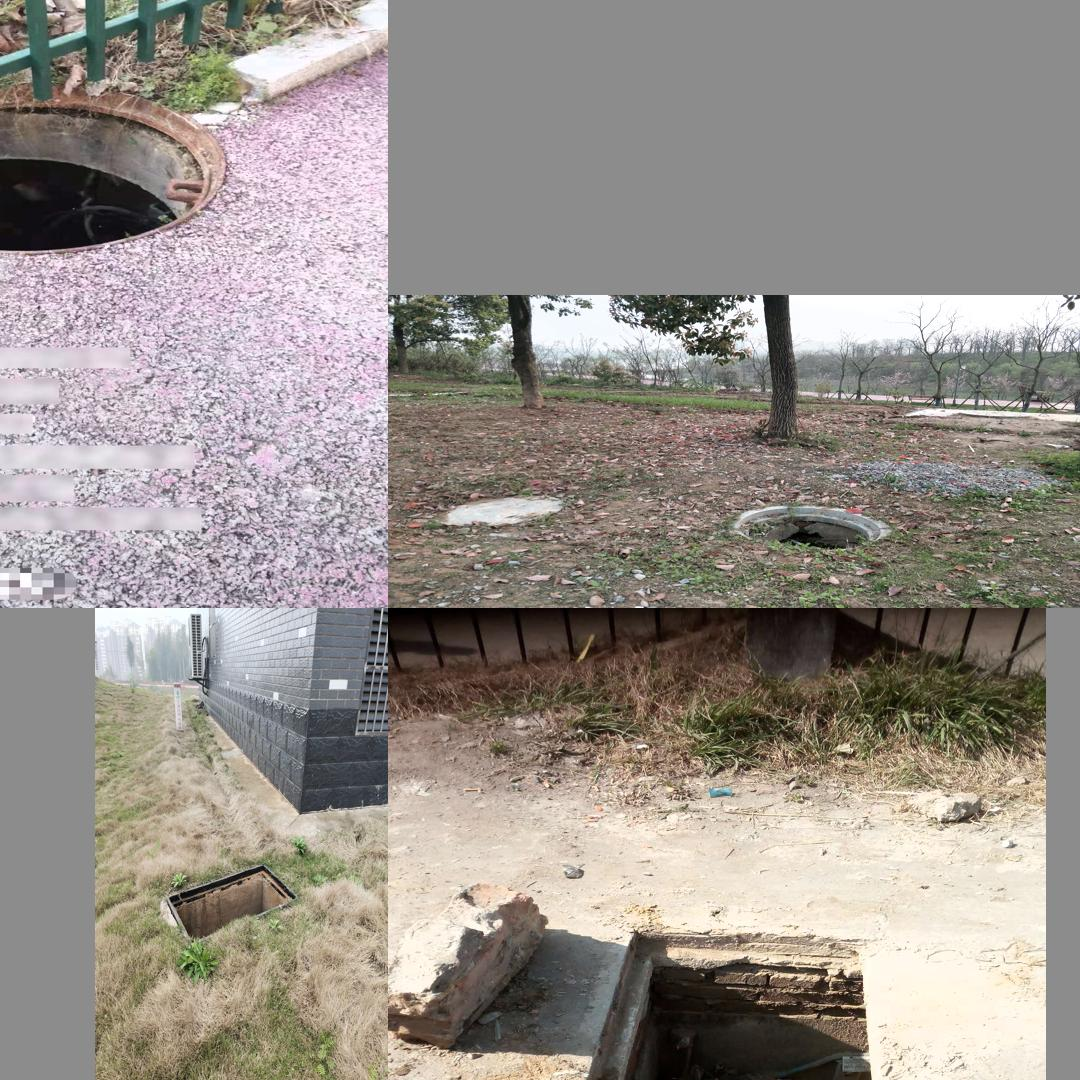lose: (556, 924, 889, 1080), (0, 79, 269, 263), (166, 864, 301, 943), (731, 504, 890, 551)
